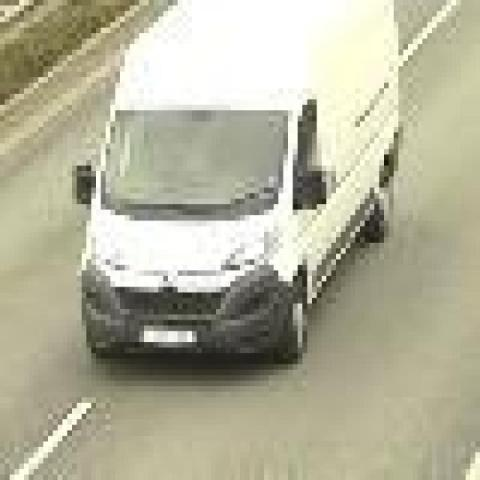van: (80, 0, 397, 358)
